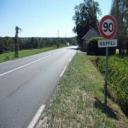speed_limit_90: (100, 14, 117, 38)
